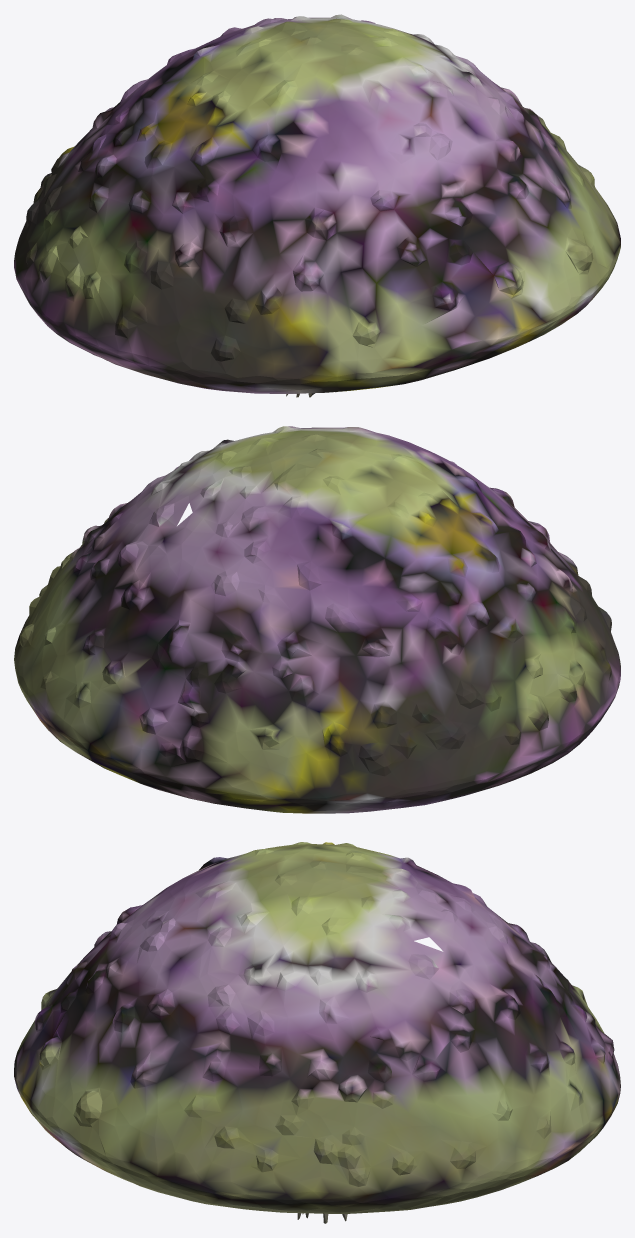
The model's file is assassin.glb.
3 views of the same model, one above another, from view 1: azimuth 30°, elevation 25°; view 2: azimuth 150°, elevation 25°; view 3: azimuth 270°, elevation 25° (orthographic).
Parts seen in each view (by area): view 1: world; view 2: world; view 3: world.
Boxes of the visible parts, <box> form: world: <box>14,14,620,397</box>; world: <box>14,426,620,813</box>; world: <box>14,842,620,1223</box>.
Bounding box in the file's own units: 1.58 × 1 × 1.58.
